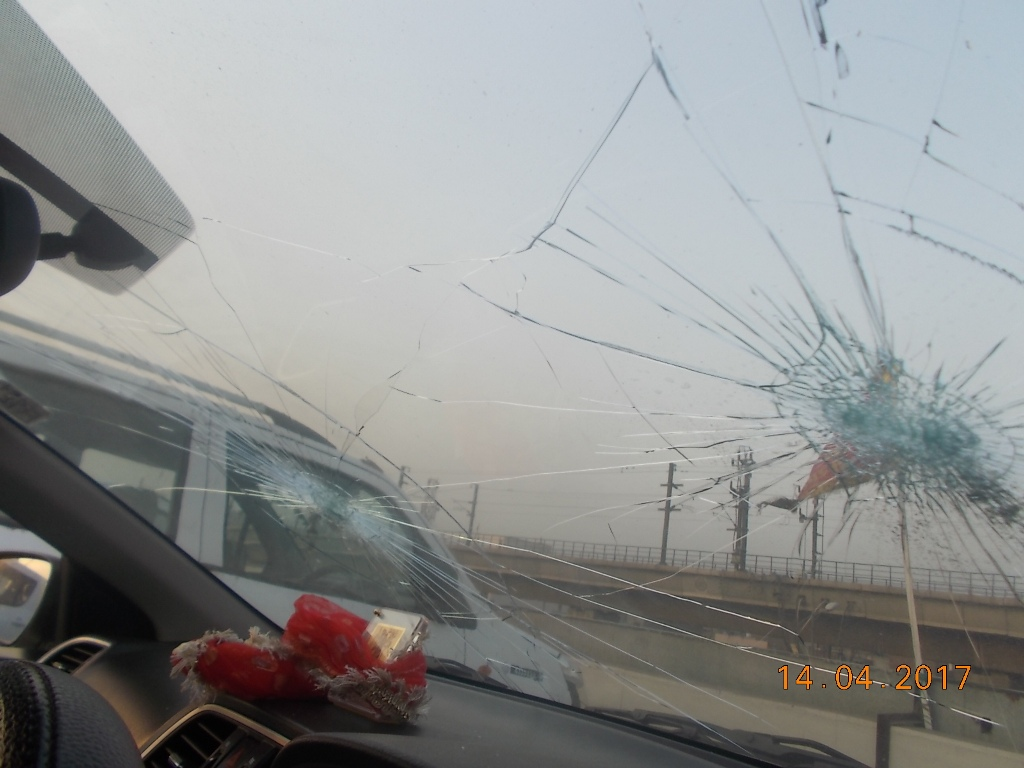Shatter: (692, 258, 1009, 589), (208, 406, 473, 560), (495, 59, 642, 252)
